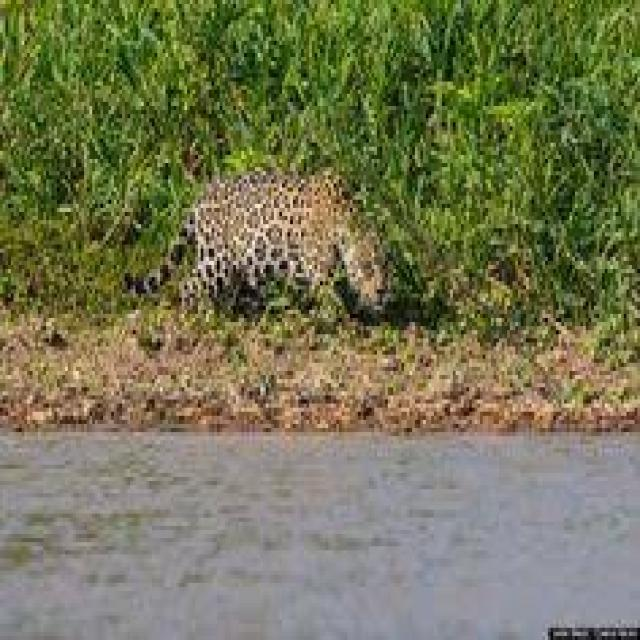Jaguar: (136, 163, 377, 306)
